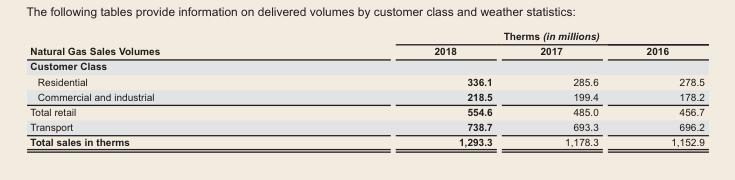table: (29, 29, 703, 149)
table column: (29, 29, 296, 149), (296, 29, 515, 149), (515, 29, 621, 149), (621, 29, 703, 149)
table column header: (29, 29, 703, 58)
table projected row header: (29, 58, 703, 73)
table row: (29, 88, 703, 104), (29, 43, 703, 58), (29, 58, 703, 73), (29, 73, 703, 88), (29, 104, 703, 119), (29, 119, 703, 134), (29, 134, 703, 149), (29, 29, 703, 43)
table spanning cell: (29, 29, 296, 58), (296, 29, 703, 43)
